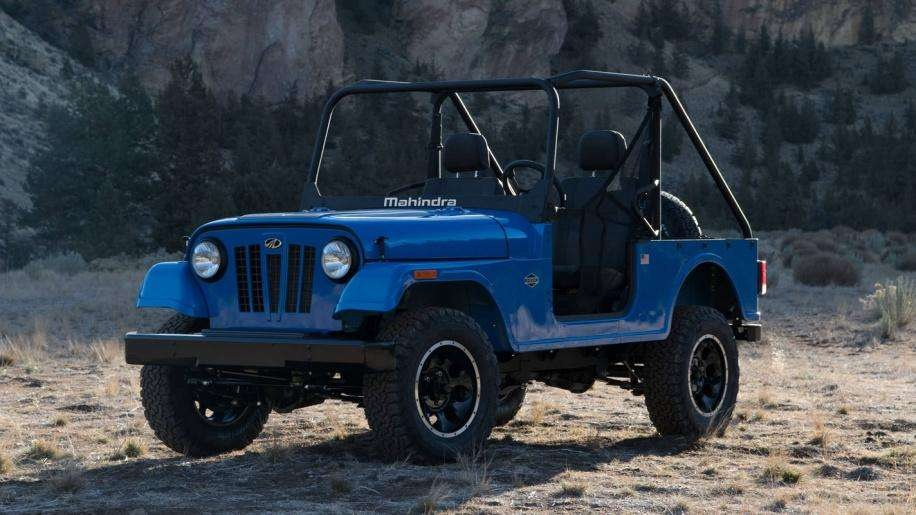jeep: (126, 65, 764, 450)
